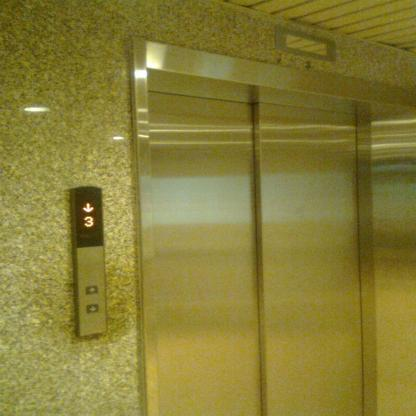down: (86, 304, 99, 312)
led: (69, 184, 105, 248)
up: (86, 286, 98, 294)
